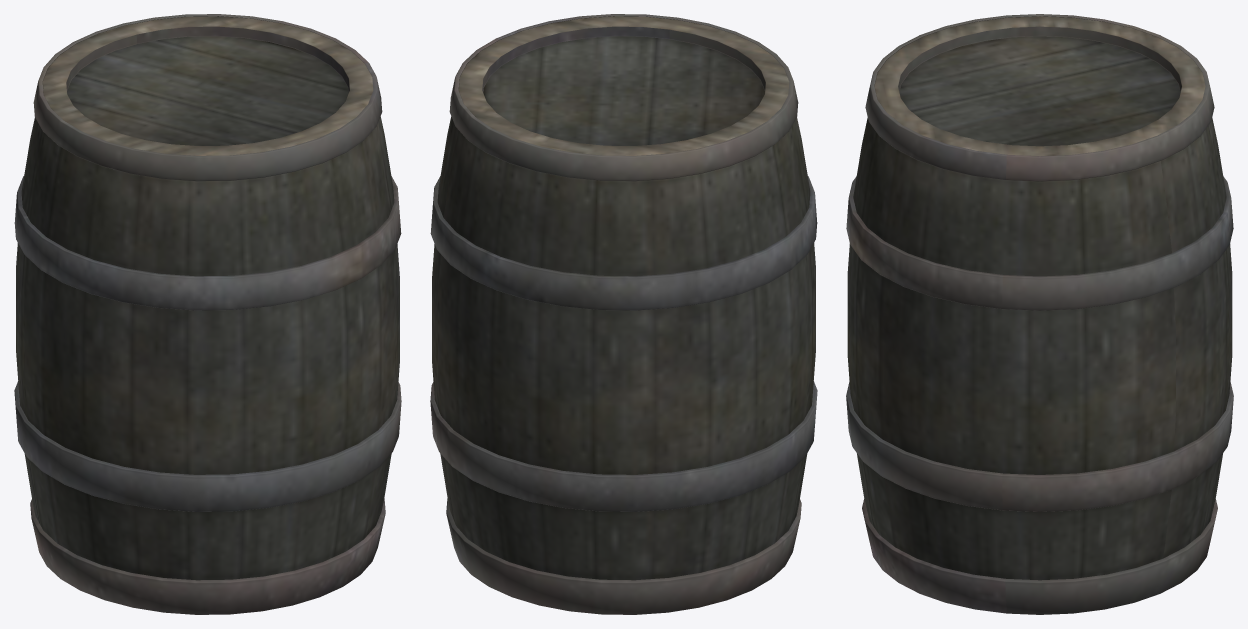
The model's file is barrel.gltf.
3 renders of one model, left to right at view 1: azimuth 30°, elevation 25°; view 2: azimuth 150°, elevation 25°; view 3: azimuth 270°, elevation 25°, orthographic.
Visible parts, largest first — view 1: barrel; view 2: barrel; view 3: barrel.
Part boxes in pixels (x1,y1,x2,y2): barrel: (14, 14, 401, 614); barrel: (430, 14, 817, 614); barrel: (846, 14, 1233, 614).
Size of the model in its own units: 0.6788 by 0.8843 by 0.6788.
1 material, 1 textured.
